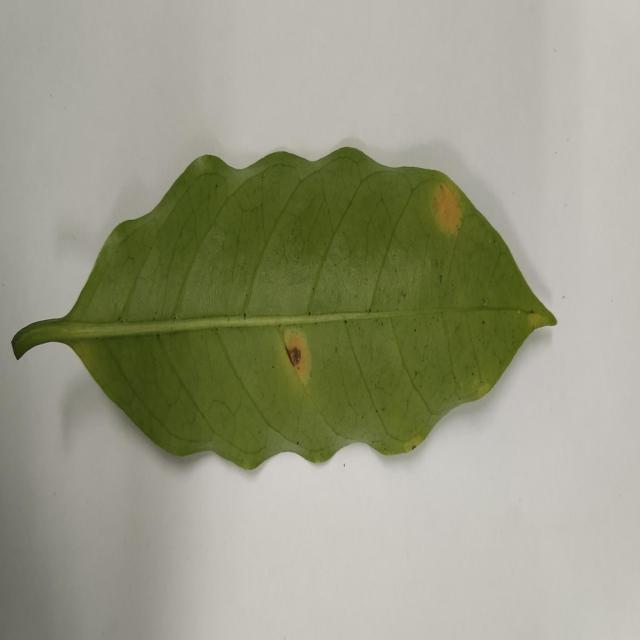Enfermedad-Roya: (11, 147, 558, 474)
